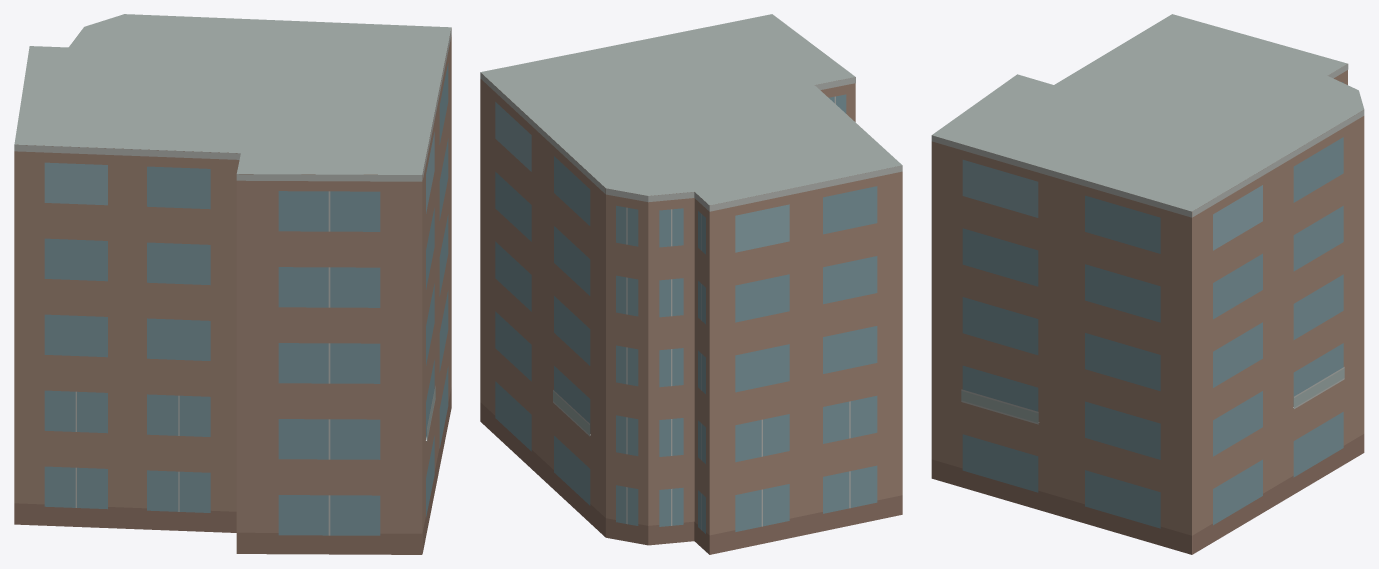
The model's file is survey-upis-32865967.glb.
3 views of the same model, side by side, from view 1: azimuth 30°, elevation 25°; view 2: azimuth 150°, elevation 25°; view 3: azimuth 270°, elevation 25° (orthographic). The views are drawn at different scales.
Visible parts, largest first — view 1: survey-upis-32865967.tmp; view 2: survey-upis-32865967.tmp; view 3: survey-upis-32865967.tmp.
Part boxes in pixels (box(x1,y1,x2,y2)): survey-upis-32865967.tmp: box(14, 14, 451, 554); survey-upis-32865967.tmp: box(480, 14, 902, 554); survey-upis-32865967.tmp: box(931, 14, 1364, 554).
Bounding box in the file's own units: 16.99 × 13.75 × 15.72.
